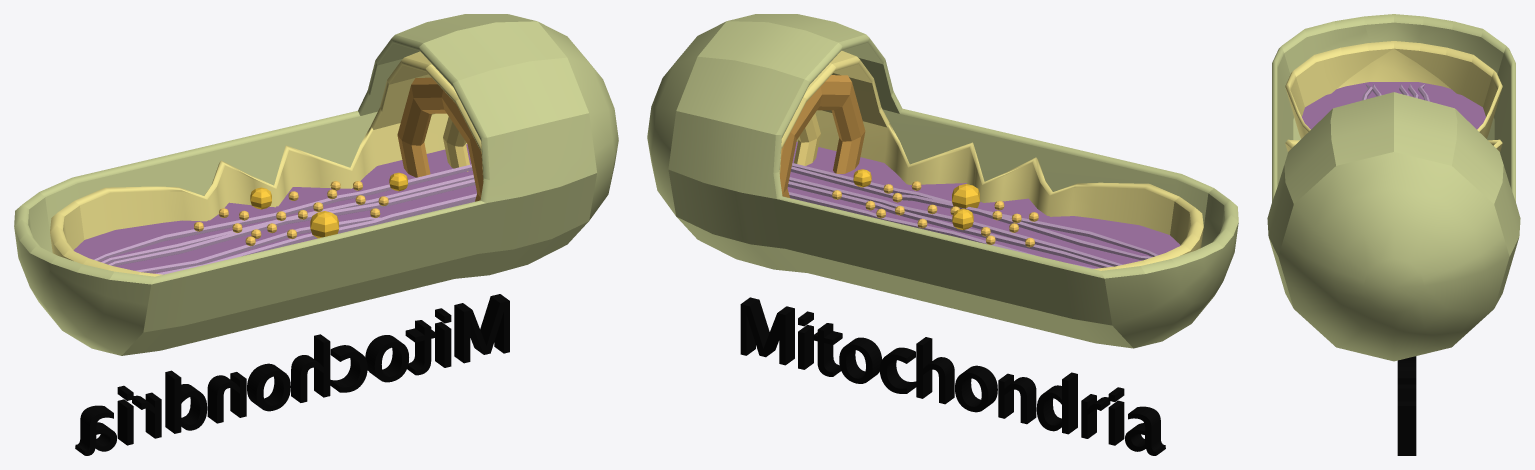
Rendered from Mitochondria V2.fbx.
3 views of the same model, side by side, from view 1: azimuth 30°, elevation 25°; view 2: azimuth 150°, elevation 25°; view 3: azimuth 270°, elevation 25° (orthographic). The views are drawn at different scales.
Visible parts, largest first — view 1: Cell_Big, typeMesh4, polySurface1, polySurface2, Cell_Small_1, pCylinder100, pCylinder103, pCylinder99, pCylinder101, pCylinder102, Cell_Small_2, pSphere53; view 2: Cell_Big, typeMesh4, polySurface1, polySurface2, Cell_Small_1, pCylinder102, pCylinder101, pCylinder103, pCylinder99, pCylinder100, Cell_Small_2, pSphere53; view 3: Cell_Big, polySurface1, polySurface2, typeMesh4.
Boxes of the visible parts, x1=… form: Cell_Big: x1=14, y1=14, x2=618, y2=355; typeMesh4: x1=75, y1=294, x2=509, y2=455; polySurface1: x1=50, y1=51, x2=483, y2=276; polySurface2: x1=73, y1=144, x2=476, y2=273; Cell_Small_1: x1=397, y1=77, x2=483, y2=201; pCylinder100: x1=94, y1=164, x2=472, y2=261; pCylinder103: x1=108, y1=179, x2=475, y2=266; pCylinder99: x1=156, y1=193, x2=476, y2=274; pCylinder101: x1=101, y1=174, x2=474, y2=263; pCylinder102: x1=135, y1=200, x2=475, y2=273; Cell_Small_2: x1=443, y1=116, x2=469, y2=171; pSphere53: x1=310, y1=211, x2=339, y2=238; Cell_Big: x1=647, y1=14, x2=1238, y2=348; typeMesh4: x1=740, y1=297, x2=1165, y2=455; polySurface1: x1=779, y1=50, x2=1203, y2=270; polySurface2: x1=787, y1=141, x2=1180, y2=268; Cell_Small_1: x1=780, y1=75, x2=865, y2=197; pCylinder102: x1=790, y1=166, x2=1152, y2=260; pCylinder101: x1=787, y1=181, x2=1113, y2=267; pCylinder103: x1=789, y1=177, x2=1122, y2=266; pCylinder99: x1=792, y1=163, x2=1158, y2=256; pCylinder100: x1=788, y1=192, x2=1095, y2=268; Cell_Small_2: x1=794, y1=113, x2=820, y2=165; pSphere53: x1=952, y1=184, x2=979, y2=208; Cell_Big: x1=1267, y1=14, x2=1520, y2=361; polySurface1: x1=1285, y1=41, x2=1502, y2=151; polySurface2: x1=1302, y1=82, x2=1485, y2=129; typeMesh4: x1=1397, y1=356, x2=1416, y2=455.
Size of the model in its own units: 4.98 by 2.8 by 1.96.
